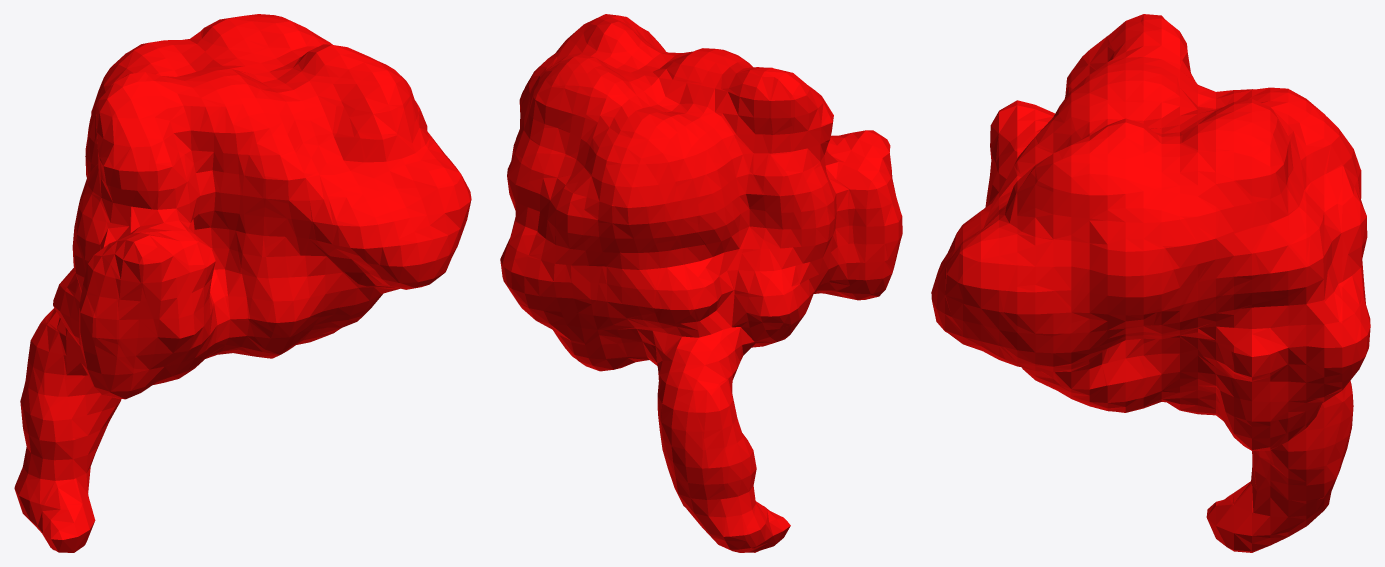
Rendered from mrp_coarse.dae.
The picture shows the model from 3 angles, left to right: view 1: azimuth 30°, elevation 25°; view 2: azimuth 150°, elevation 25°; view 3: azimuth 270°, elevation 25°; orthographic projection. The views are drawn at different scales.
Visible parts, largest first — view 1: mrp; view 2: mrp; view 3: mrp.
Part boxes in pixels (bbox=[...]): mrp: bbox=[14, 14, 471, 552]; mrp: bbox=[500, 14, 902, 552]; mrp: bbox=[931, 14, 1370, 552].
Size of the model in its own units: 60.55 by 76.52 by 56.07.
